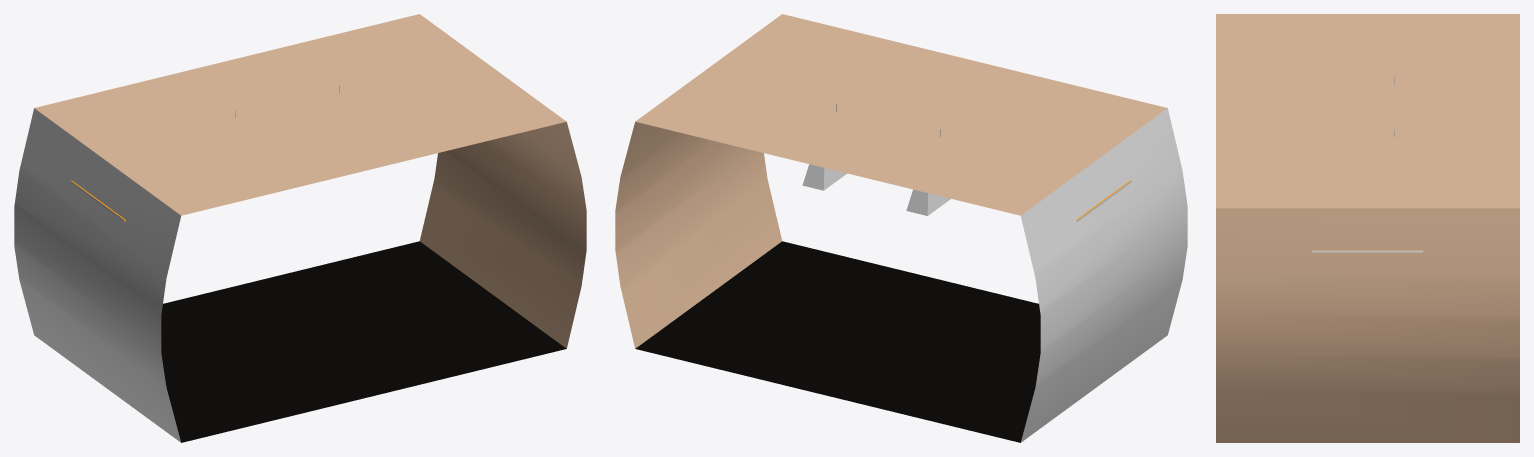
Rendered from corridoor.gltf.
The picture shows the model from 3 angles, left to right: view 1: azimuth 30°, elevation 25°; view 2: azimuth 150°, elevation 25°; view 3: azimuth 270°, elevation 25°; orthographic projection. The views are drawn at different scales.
Parts seen in each view (by area): view 1: Corridor; view 2: Corridor, Light02, Light03; view 3: Corridor, tube light.001.
Boxes of the visible parts, x1,y1,x2,y2 form: Corridor: (14,14,586,442); Corridor: (615,14,1187,442); Light02: (906,189,950,215); Light03: (802,164,846,190); Corridor: (1216,14,1519,442); tube light.001: (1312,250,1423,252).
Bounding box in the file's own units: 8.19 × 4.33 × 4.91.
